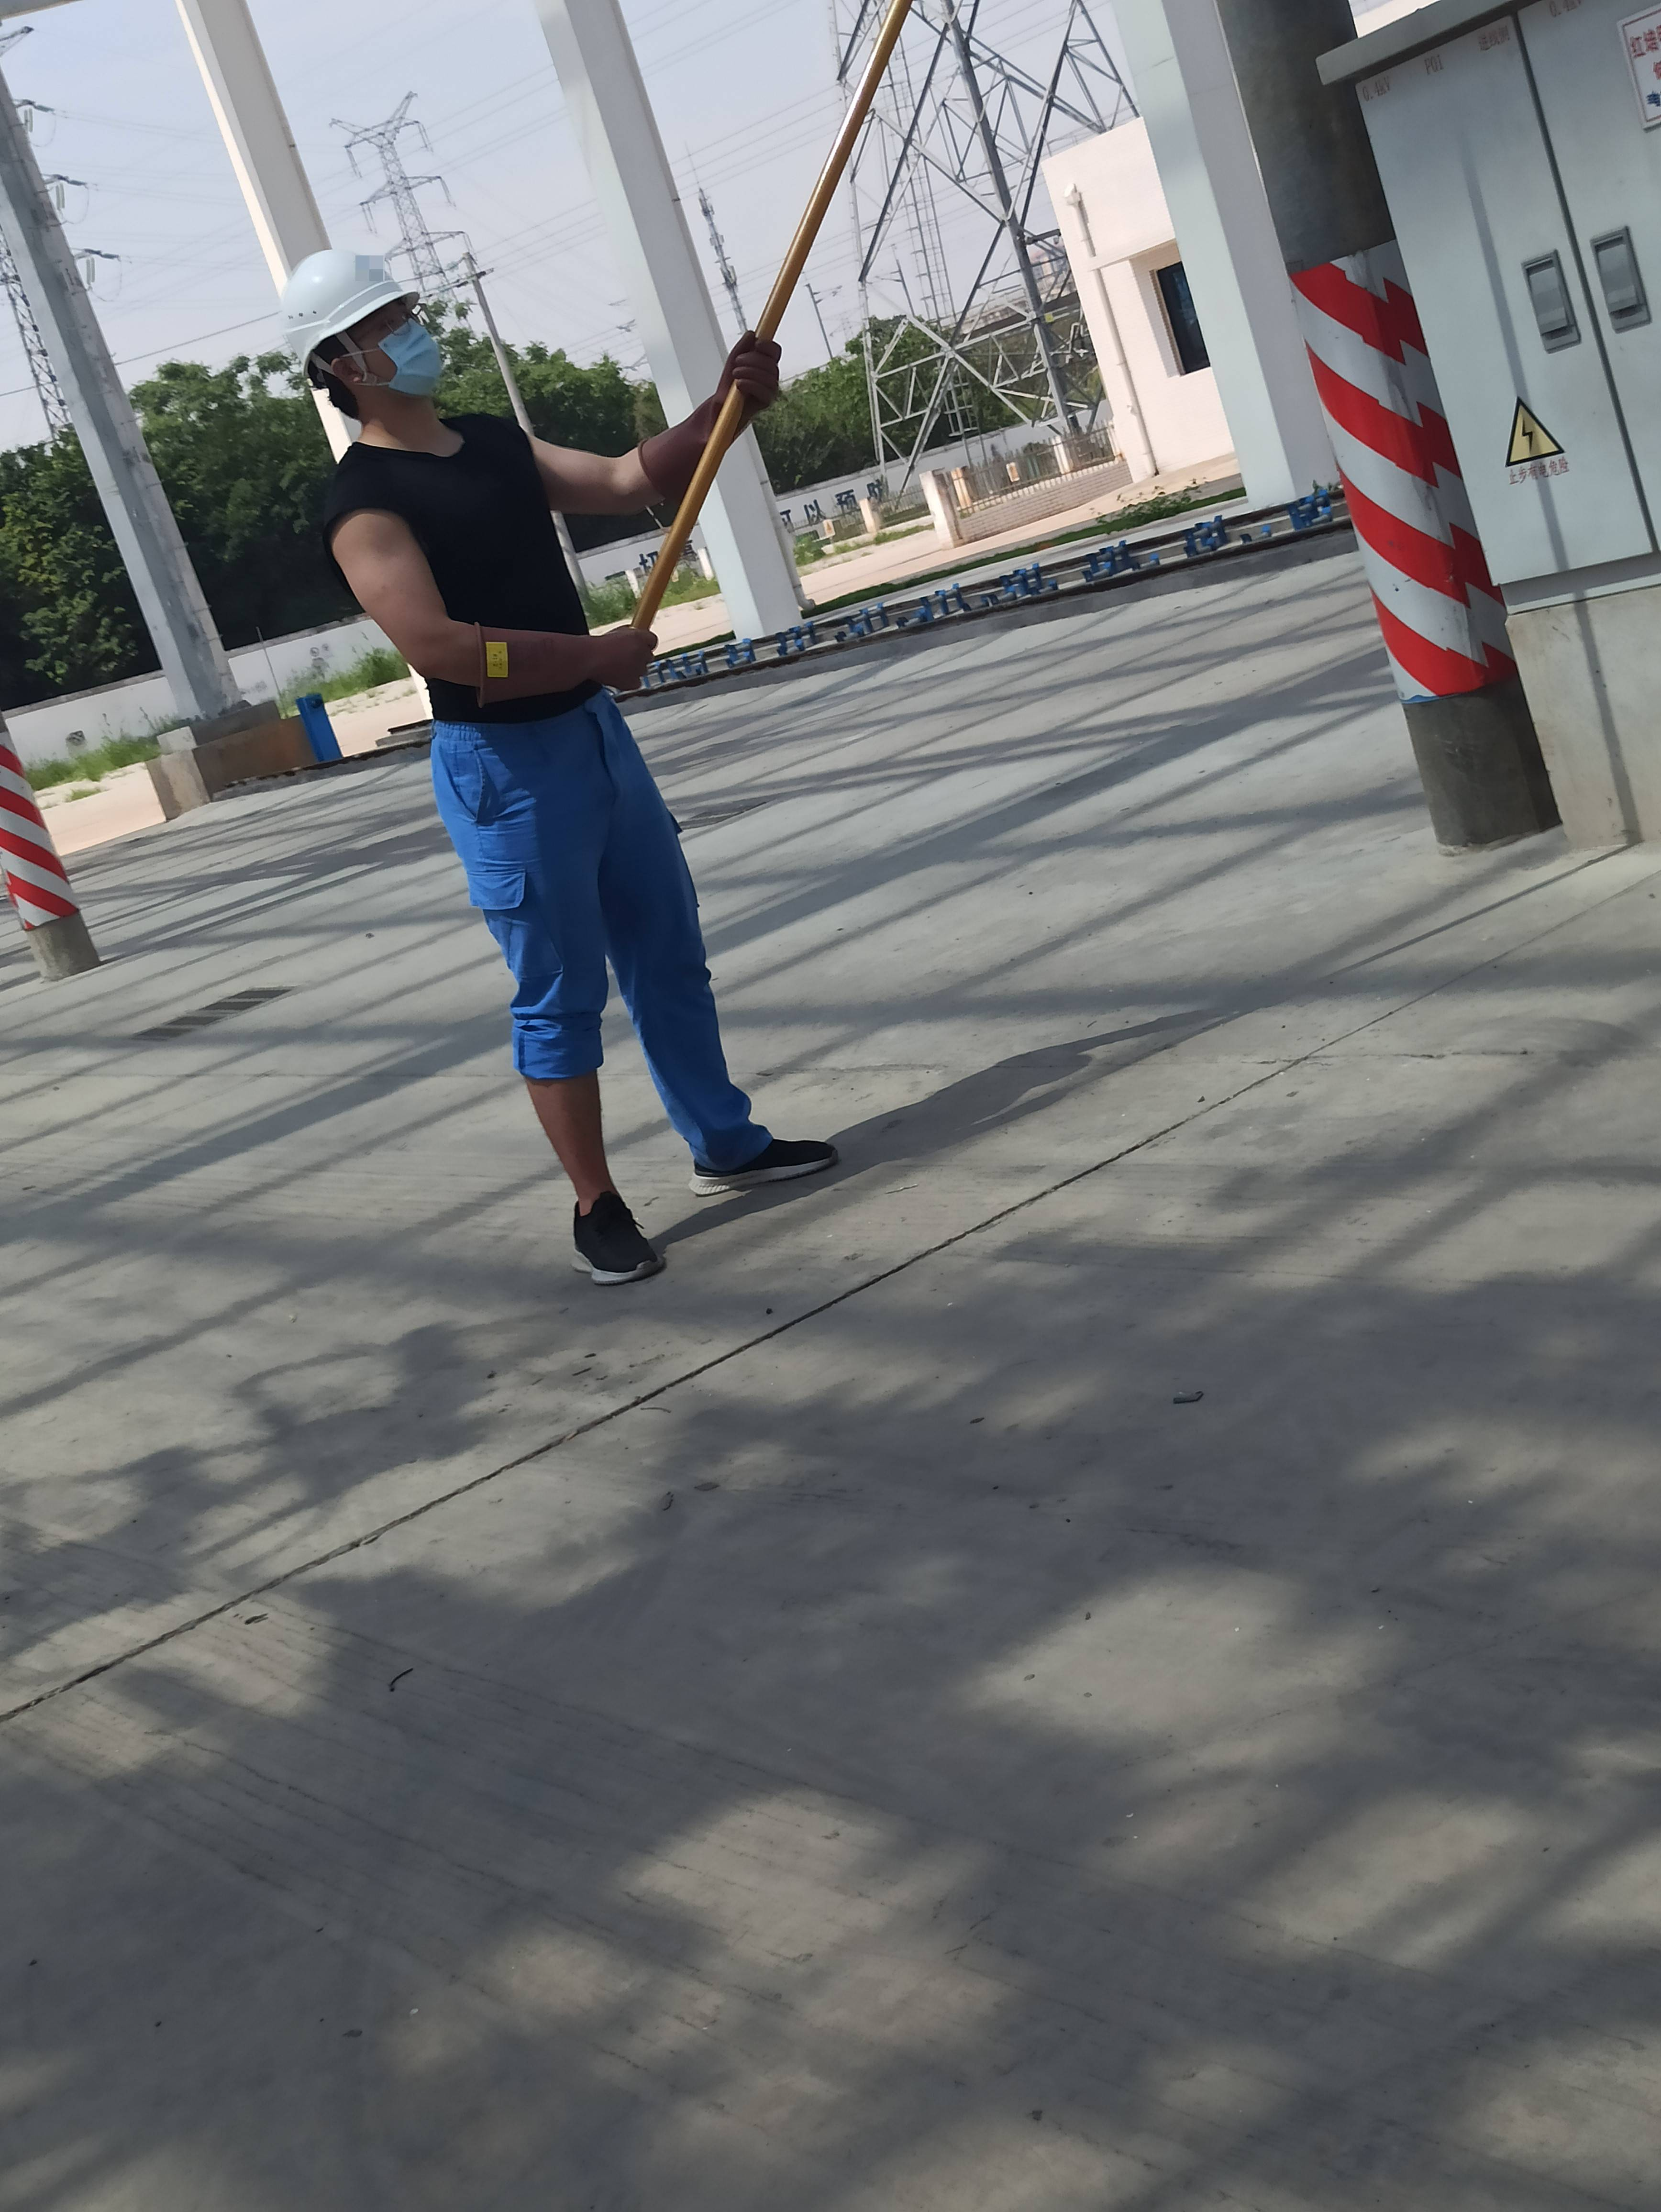downsuit: (436, 724, 748, 1153)
upcloth: (309, 415, 581, 729)
wrongbottom: (515, 1029, 619, 1221)
